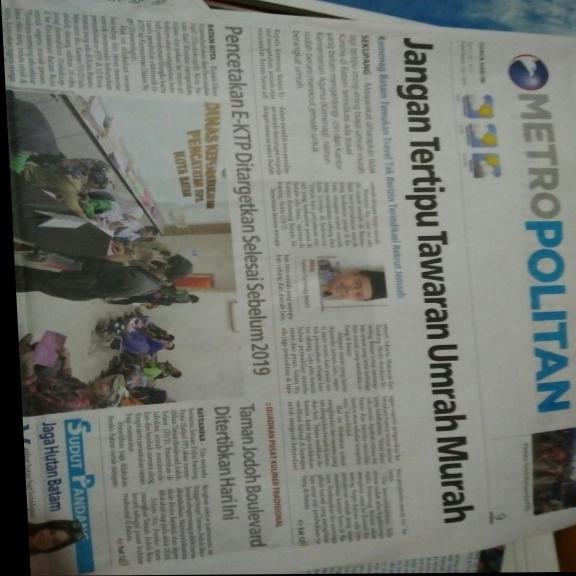Kertas: (200, 3, 576, 566), (60, 423, 576, 570)
